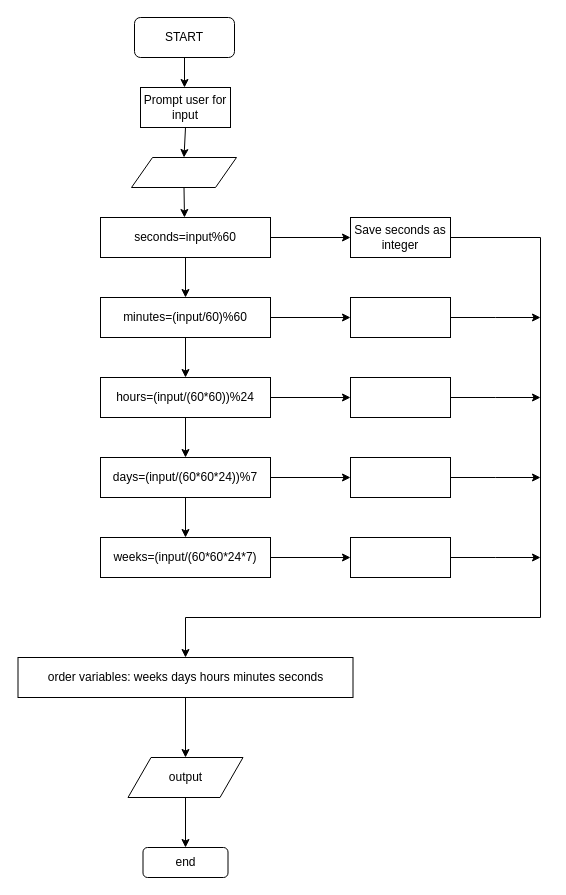
This 566x895 diagram has some shape labels left out. Each missing label, with the centre of its shape:
input: [183,172]
save days as integer: [400,477]
save hours as integer: [400,397]
save minutes as integer: [400,317]
save weeks as integer: [400,557]
